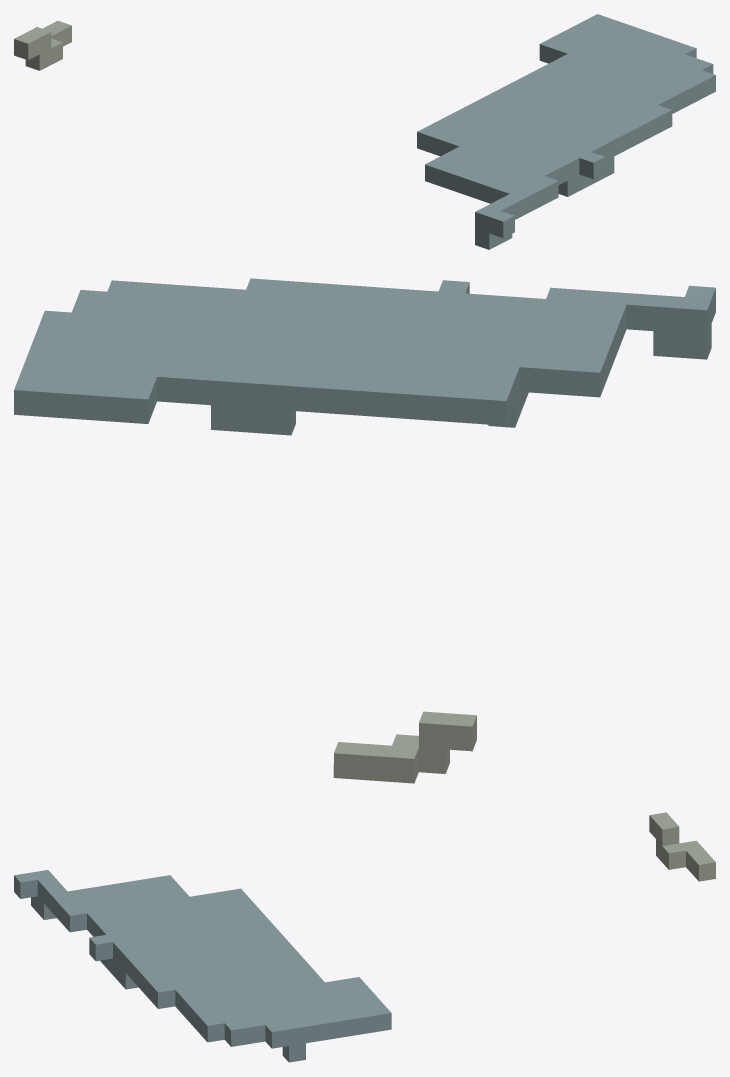
3 renders of one model, top to bottom at view 1: azimuth 30°, elevation 25°; view 2: azimuth 150°, elevation 25°; view 3: azimuth 270°, elevation 25°, orthographic. The views are drawn at different scales.
Visible parts, largest first — view 1: measured-industrial; view 2: measured-industrial; view 3: measured-industrial.
Part boxes in pixels (x1,y1,x2,y2): measured-industrial: (14, 14, 715, 249); measured-industrial: (14, 278, 715, 783); measured-industrial: (14, 812, 715, 1062).
Size of the model in its own units: 30.6 by 3.01 by 38.38.
